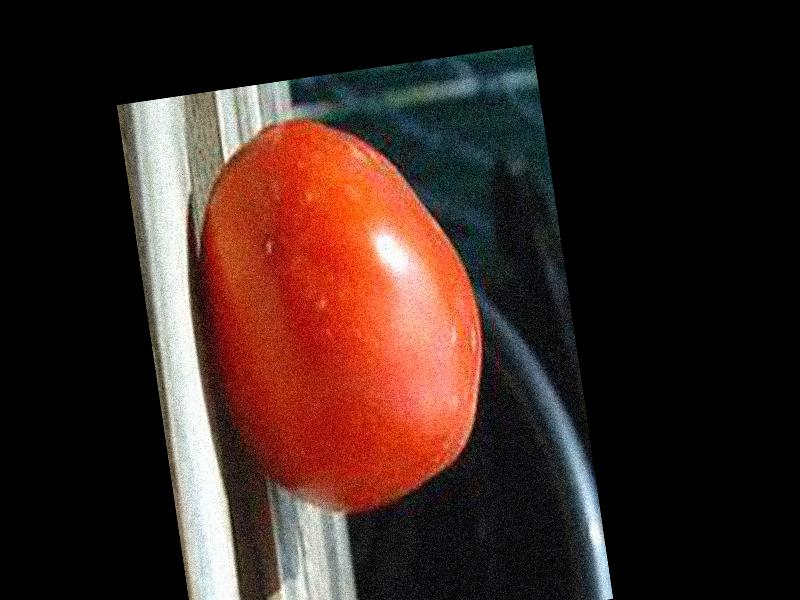Tomato: (181, 96, 504, 526)
